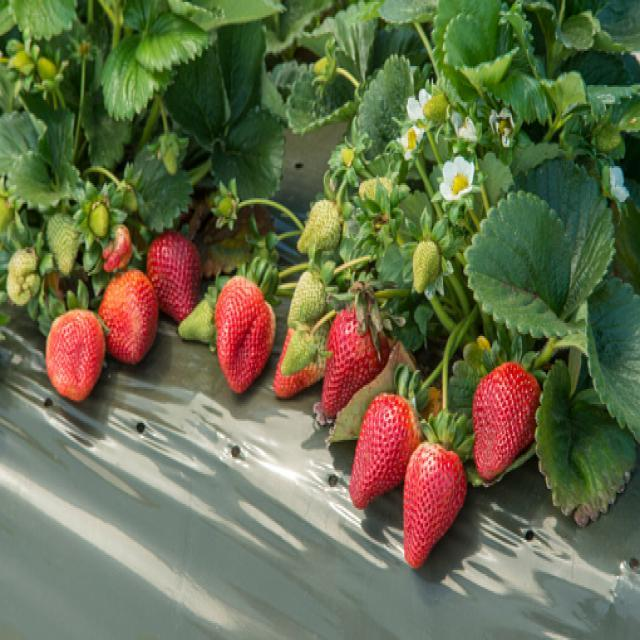ripe: (203, 270, 280, 396), (400, 436, 470, 574), (466, 352, 542, 478), (319, 303, 383, 433), (354, 389, 416, 522), (41, 304, 109, 407), (136, 221, 206, 321), (88, 264, 157, 356)
unripe: (293, 194, 343, 262), (43, 210, 84, 275), (287, 265, 325, 327), (282, 323, 321, 383), (405, 236, 442, 294), (85, 196, 114, 239)
